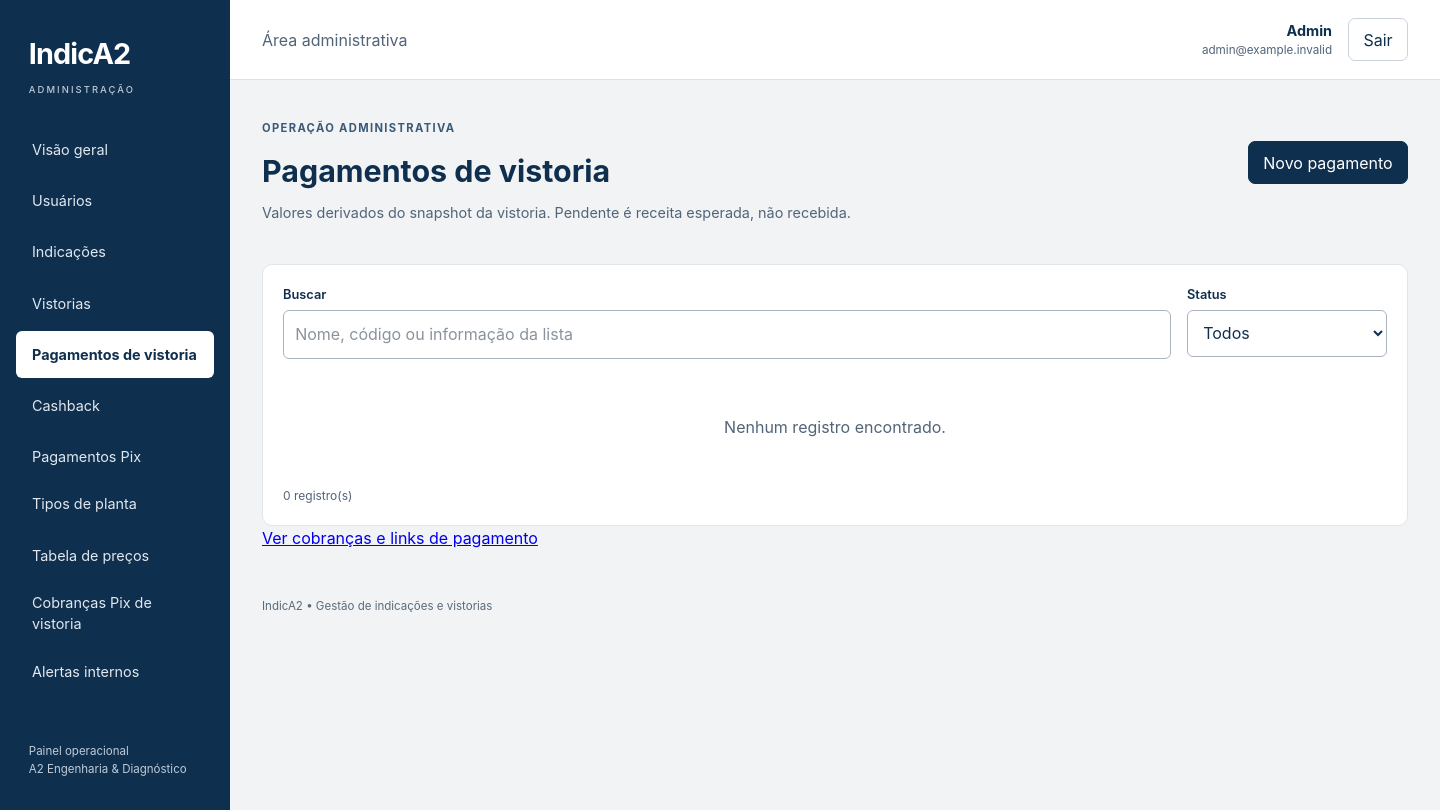
Test case: pagamento traduz erro 409 sem exibir payload arbitrário
The image size is (1440, 810).
Click the button "Novo pagamento": (1328, 163) [1248, 141, 1408, 184]
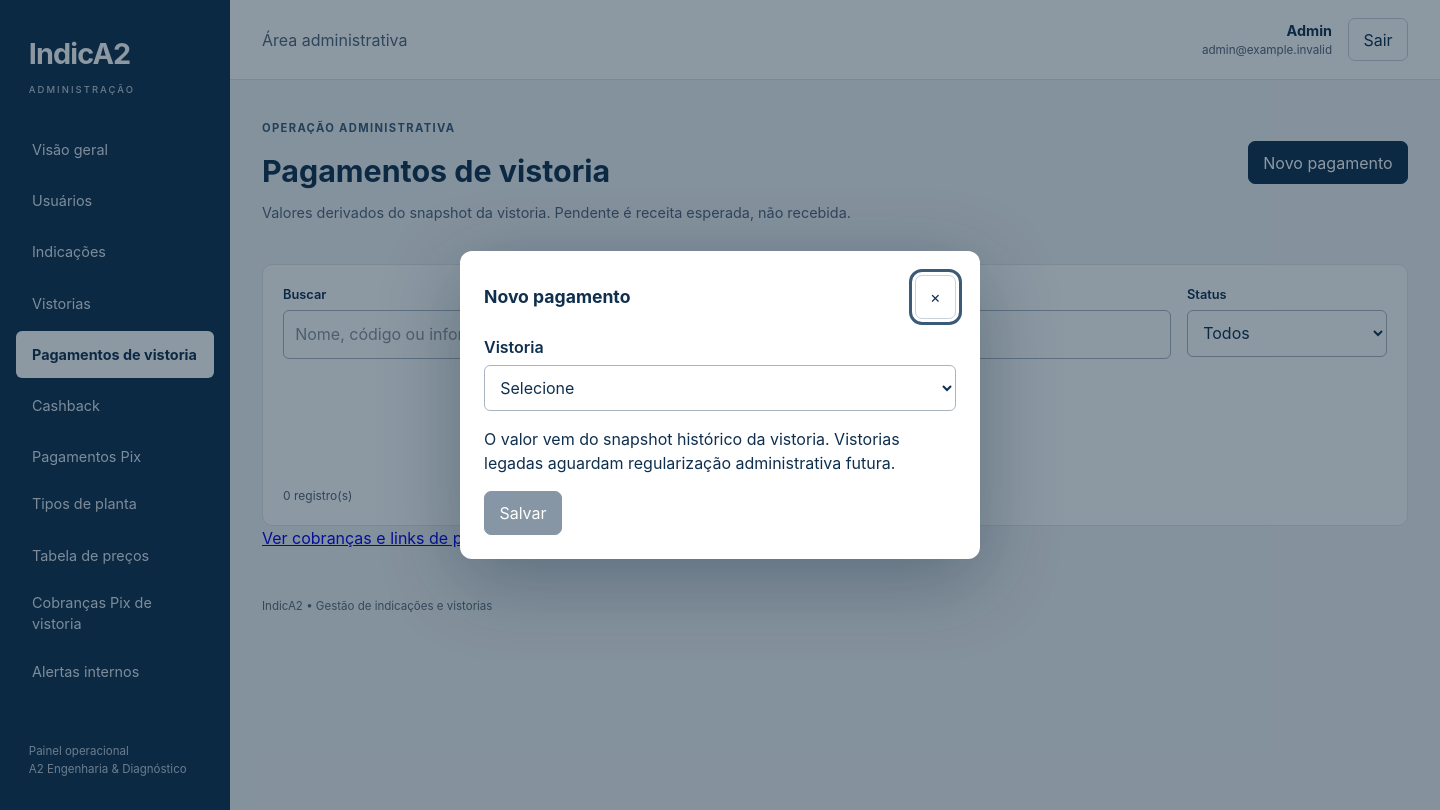
expect the dropdown labelled "Vistoria" is shown: met
Select "Calculada — R$ 12,35" in the dropdown labelled "Vistoria": (720, 388) [484, 365, 956, 411]
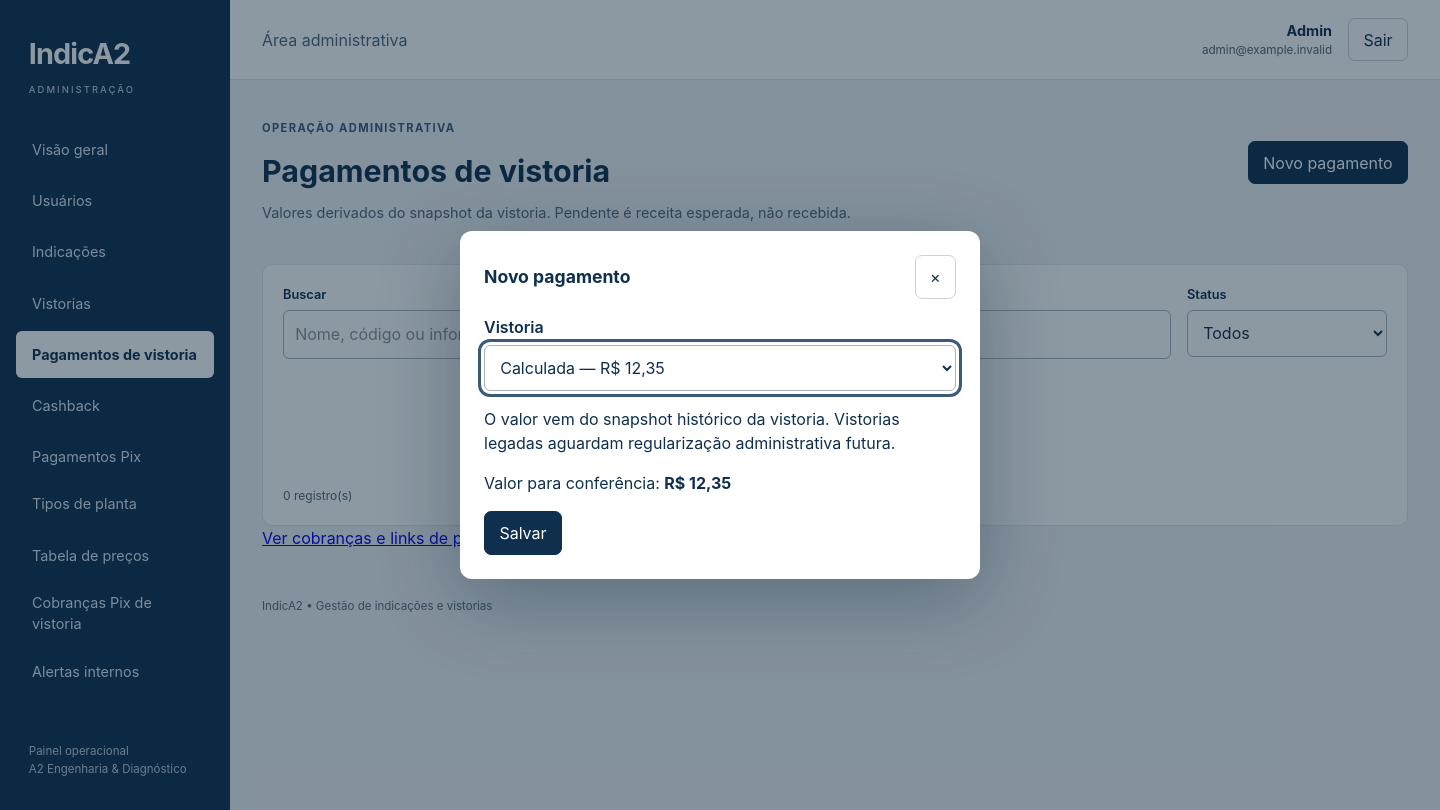
Click the button "Salvar": (523, 533) [484, 511, 562, 555]
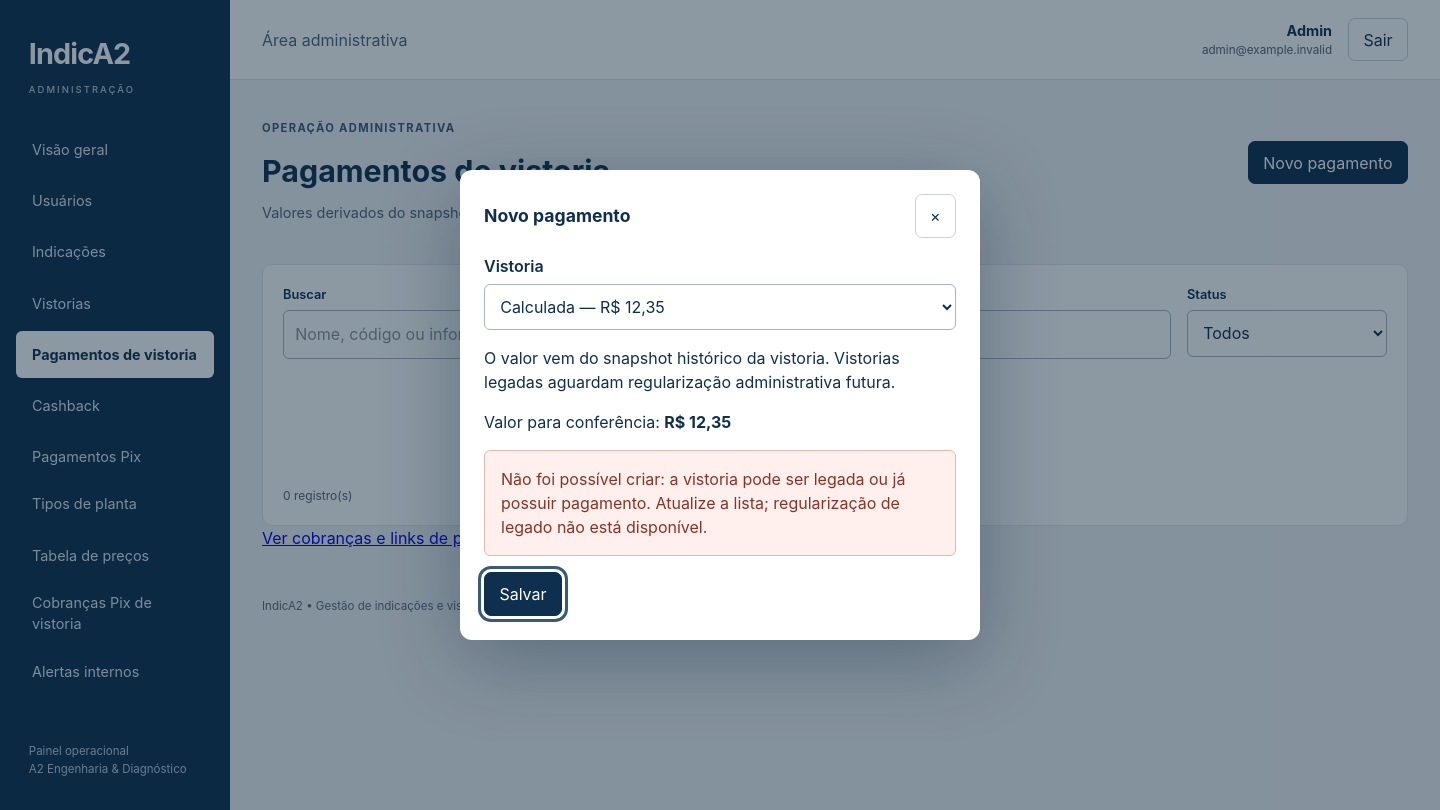
expect the message shows "legada ou já possuir pagamento": met, box [501, 469, 905, 537]
